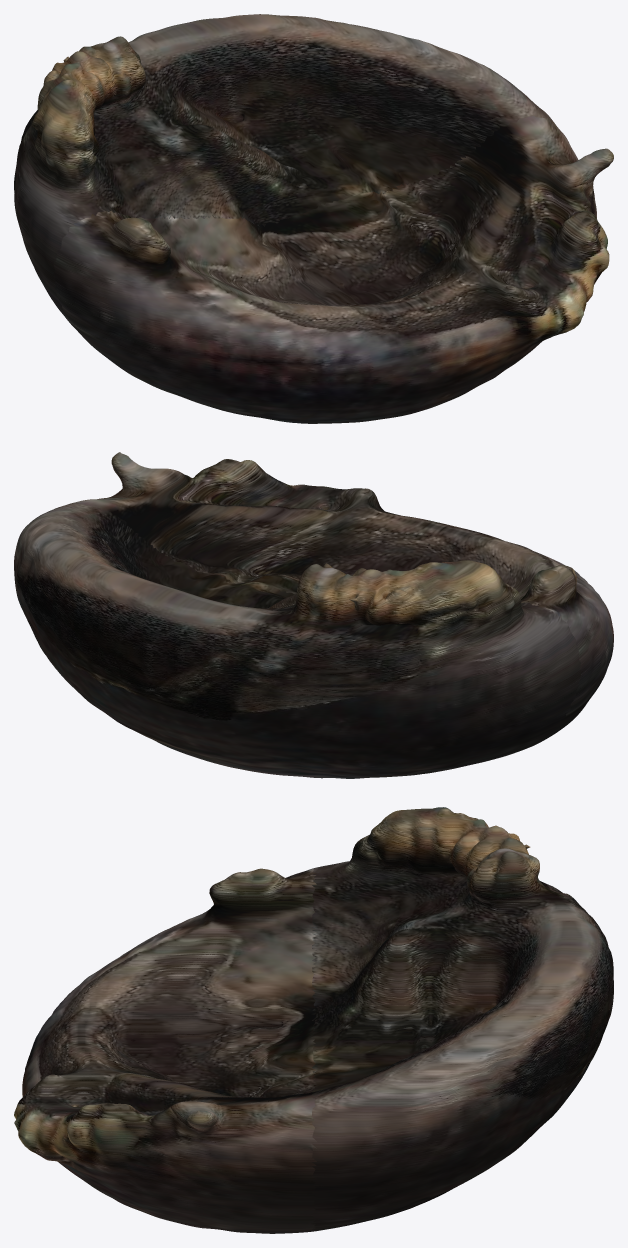
Rendered from kfl-2237.glb.
3 renders of one model, top to bottom at view 1: azimuth 30°, elevation 25°; view 2: azimuth 150°, elevation 25°; view 3: azimuth 270°, elevation 25°, orthographic. The views are drawn at different scales.
Parts seen in each view (by area): view 1: geometry_0; view 2: geometry_0; view 3: geometry_0.
Boxes of the visible parts, <box> form: geometry_0: <box>14,14,613,423</box>; geometry_0: <box>14,452,613,778</box>; geometry_0: <box>14,807,613,1233</box>.
Bounding box in the file's own units: 0.9959 × 0.5223 × 0.9789.
Materials: 1 (1 with a texture image).
